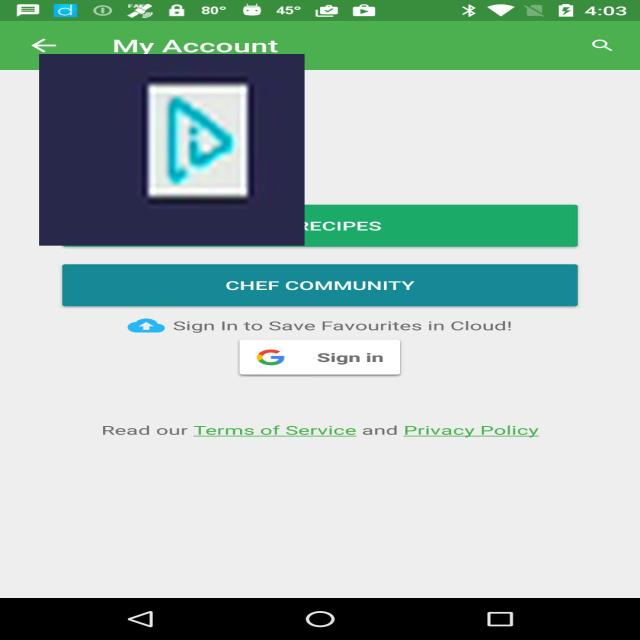sneaking: (39, 54, 305, 246)
